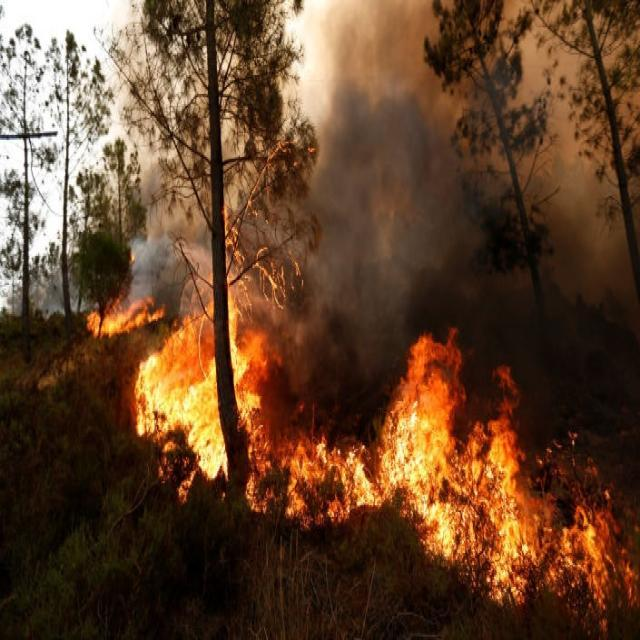Fire: (85, 205, 640, 640)
Smoke: (118, 2, 640, 449)
